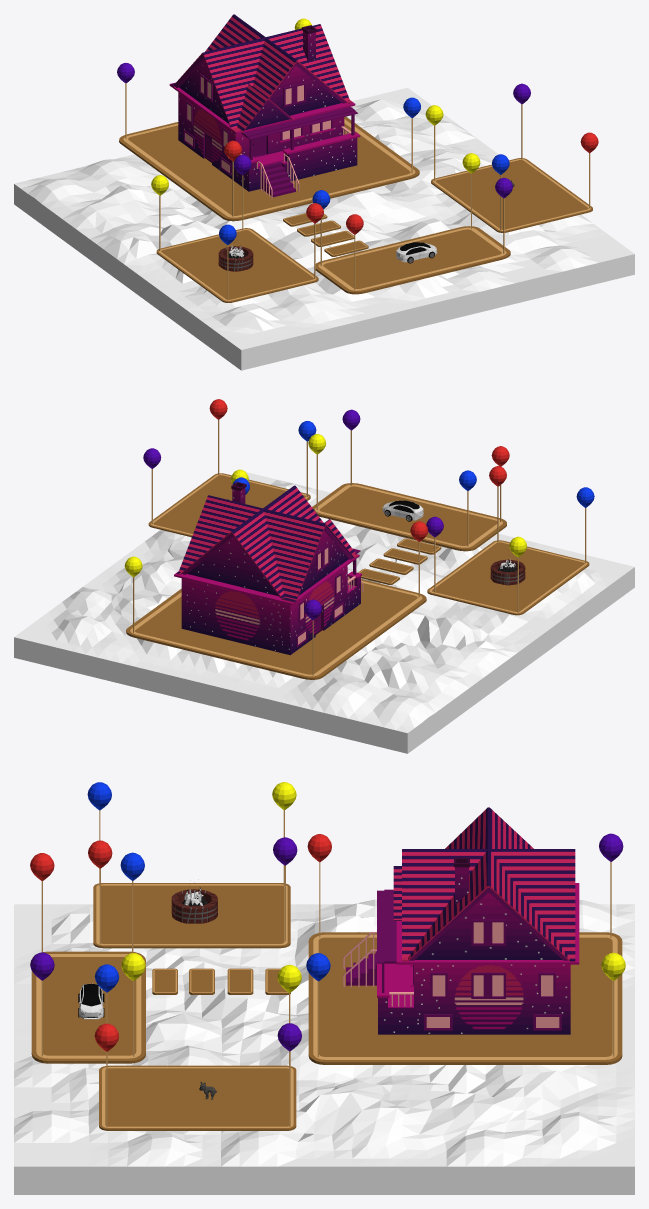
3 views of the same model, one above another, from view 1: azimuth 30°, elevation 25°; view 2: azimuth 150°, elevation 25°; view 3: azimuth 270°, elevation 25° (orthographic). The views are drawn at different scales.
Parts seen in each view (by area): view 1: Cube.013, Cube.156, OBJRANDOM_CAMPFIRE, VEHICLES_TESLA; view 2: Cube.013, Cube.156, OBJRANDOM_CAMPFIRE, VEHICLES_TESLA; view 3: Cube.013, Cube.156, OBJRANDOM_CAMPFIRE, VEHICLES_TESLA.
Boxes of the visible parts, left/top/right/bottom form: Cube.013: left=14, top=18, right=634, bottom=370; Cube.156: left=169, top=14, right=360, bottom=198; OBJRANDOM_CAMPFIRE: left=218, top=244, right=253, bottom=271; VEHICLES_TESLA: left=396, top=242, right=437, bottom=263; Cube.013: left=14, top=399, right=634, bottom=753; Cube.156: left=174, top=482, right=363, bottom=655; OBJRANDOM_CAMPFIRE: left=490, top=559, right=525, bottom=585; VEHICLES_TESLA: left=382, top=500, right=423, bottom=521; Cube.013: left=14, top=782, right=634, bottom=1194; Cube.156: left=343, top=807, right=579, bottom=1034; OBJRANDOM_CAMPFIRE: left=171, top=887, right=217, bottom=923; VEHICLES_TESLA: left=78, top=983, right=104, bottom=1019.
Bounding box in the file's own units: 4000 × 1638 × 4000.
32 materials, 4 textured.
